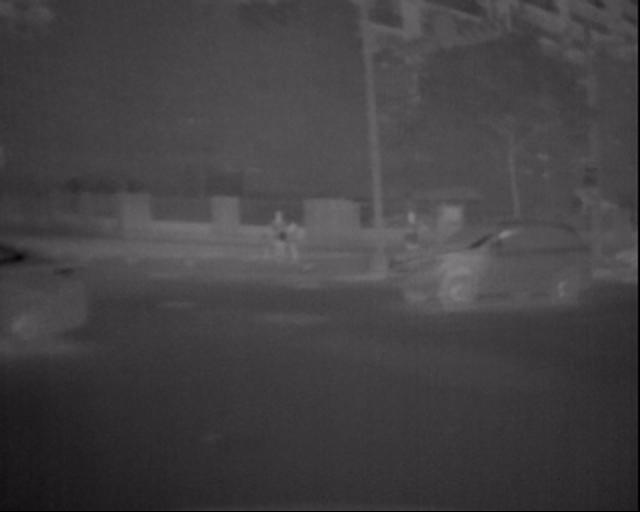person: (389, 209, 426, 272), (247, 220, 281, 266), (261, 207, 283, 268), (282, 220, 302, 260)
